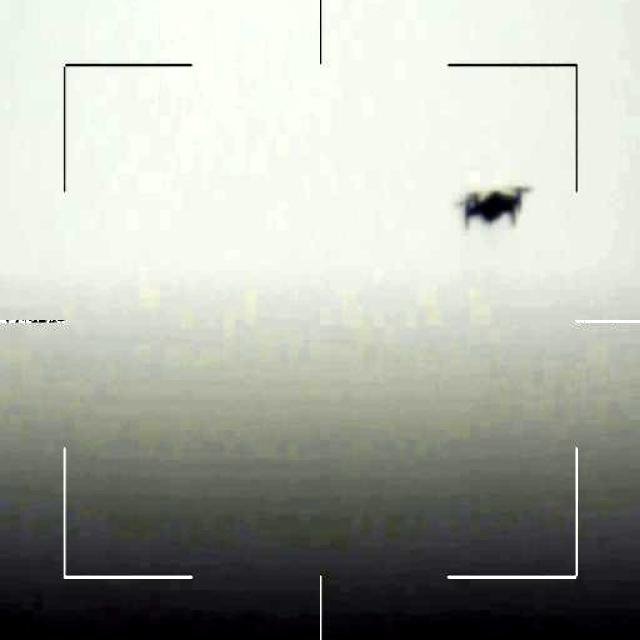bird: (459, 175, 529, 230)
